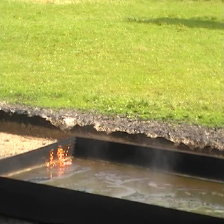fire_h: (46, 144, 72, 167)
